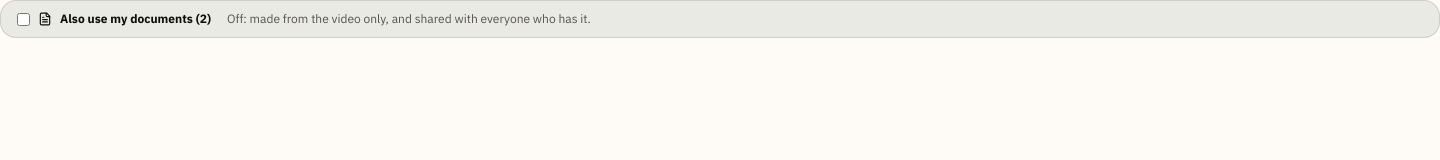
Test: DocumentContextToggle › explains each state and reports changes
Click the checkbox labelled "Also use my documents (2)" at x=24, y=19, box [17,12,30,26]
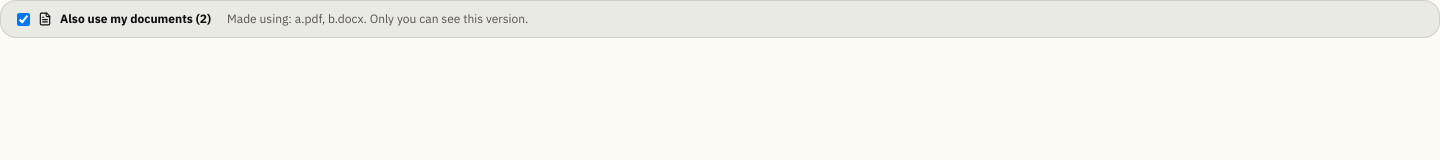
Now the text "Made using: a.pdf, b.docx" is shown, box [227,11,528,26]
Now the text "Only you can see this version" is shown, box [227,11,528,26]
